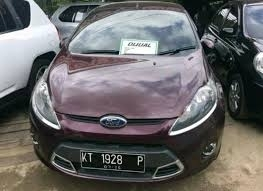plate: (81, 149, 145, 172)
